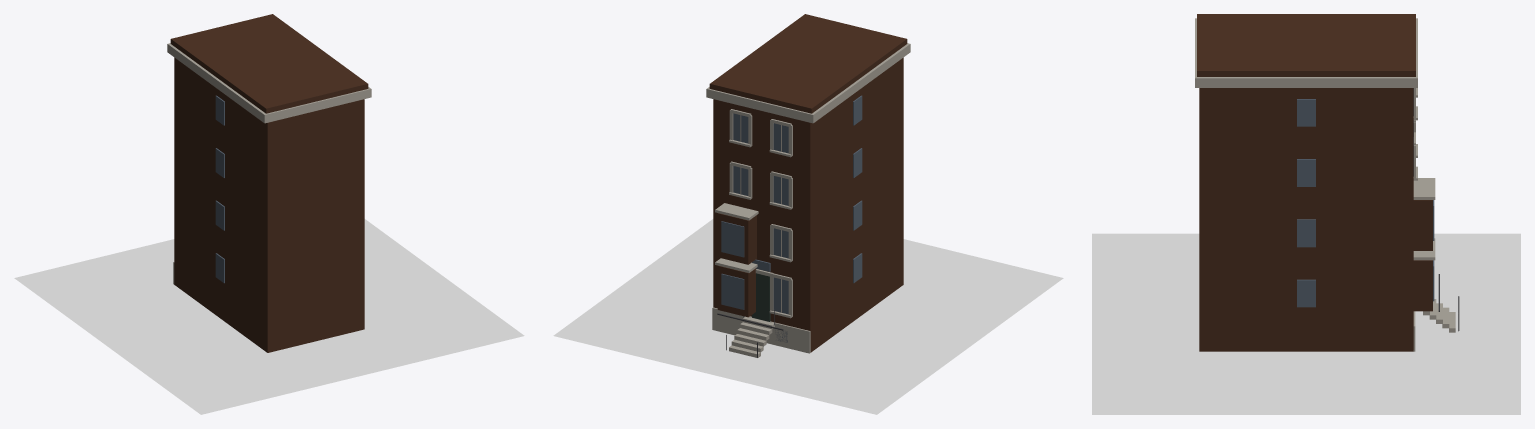
The model's file is brownstone-b.glb.
The picture shows the model from 3 angles, left to right: view 1: azimuth 30°, elevation 25°; view 2: azimuth 150°, elevation 25°; view 3: azimuth 270°, elevation 25°; orthographic projection. The views are drawn at different scales.
Visible parts, largest first — view 1: Cube, Plane, Cube.003, Cube.002; view 2: Plane, Cube, Cube.003, Cube.002, Cube.001, Cube.068, Cube.065, Cube.066, Cube.069, Cube.004, Cube.017; view 3: Cube, Plane, Cube.003, Cube.002, Cube.065, Cube.068, Cube.075, Cube.076, Cube.077, Cube.078, Cube.070.
Part boxes in pixels (x1=…): Cube: x1=174, y1=57, x2=364, y2=352; Plane: x1=14, y1=219, x2=524, y2=414; Cube.003: x1=170, y1=14, x2=368, y2=113; Cube.002: x1=167, y1=43, x2=371, y2=123; Plane: x1=553, y1=219, x2=1063, y2=414; Cube: x1=713, y1=57, x2=903, y2=352; Cube.003: x1=709, y1=14, x2=907, y2=113; Cube.002: x1=706, y1=43, x2=910, y2=123; Cube.001: x1=712, y1=307, x2=810, y2=353; Cube.068: x1=717, y1=213, x2=756, y2=264; Cube.065: x1=717, y1=265, x2=756, y2=317; Cube.066: x1=721, y1=273, x2=744, y2=309; Cube.069: x1=721, y1=221, x2=744, y2=257; Cube.004: x1=752, y1=273, x2=770, y2=321; Cube.017: x1=773, y1=277, x2=788, y2=314; Cube: x1=1199, y1=88, x2=1413, y2=351; Plane: x1=1092, y1=233, x2=1520, y2=414; Cube.003: x1=1197, y1=14, x2=1415, y2=76; Cube.002: x1=1195, y1=18, x2=1417, y2=87; Cube.065: x1=1413, y1=260, x2=1432, y2=311; Cube.068: x1=1413, y1=200, x2=1432, y2=250; Cube.075: x1=1297, y1=279, x2=1315, y2=307; Cube.076: x1=1297, y1=219, x2=1315, y2=247; Cube.077: x1=1297, y1=159, x2=1315, y2=186; Cube.078: x1=1297, y1=99, x2=1315, y2=126; Cube.070: x1=1413, y1=178, x2=1435, y2=199.
Size of the model in its own units: 20 by 14.5 by 20.
